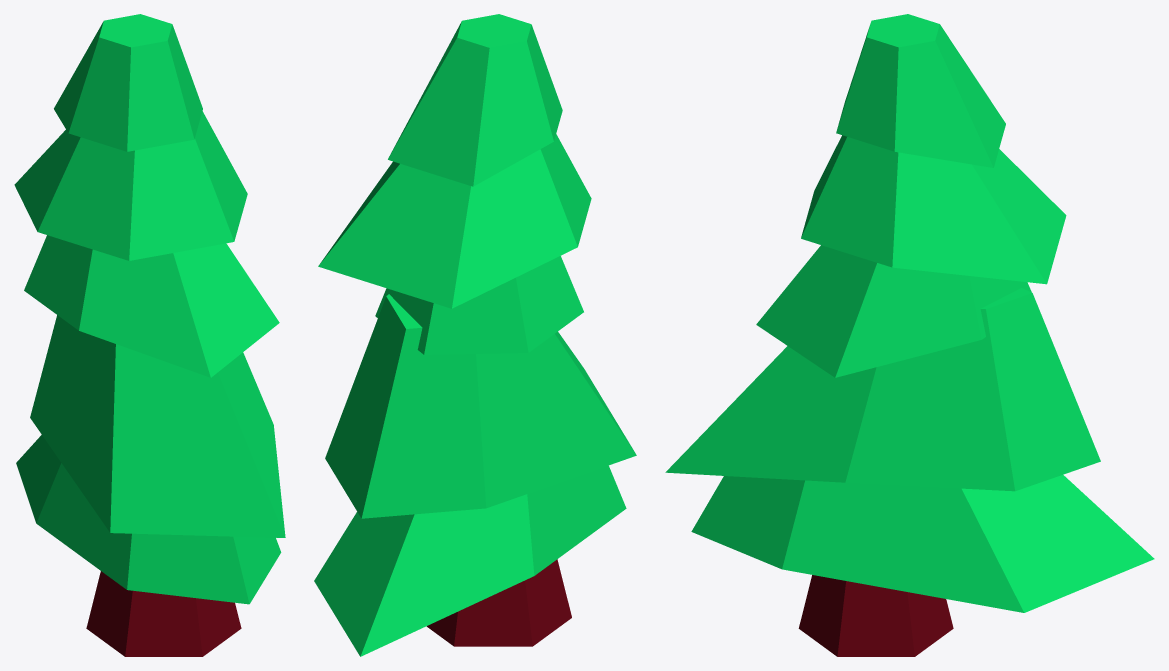
Rendered from newtree2.fbx.
The picture shows the model from 3 angles, left to right: view 1: azimuth 30°, elevation 25°; view 2: azimuth 150°, elevation 25°; view 3: azimuth 270°, elevation 25°; orthographic projection.
Parts seen in each view (by area): view 1: Cylinder.002, Cylinder.004, Cylinder.003, Cylinder.001, Cylinder.005, Cylinder; view 2: Cylinder.002, Cylinder.001, Cylinder.004, Cylinder.005, Cylinder.003, Cylinder; view 3: Cylinder.002, Cylinder.001, Cylinder.004, Cylinder.003, Cylinder.005, Cylinder.
Part boxes in pixels (left/top/right/bottom): Cylinder.002: left=30, top=315, right=285, bottom=537; Cylinder.004: left=14, top=111, right=247, bottom=260; Cylinder.003: left=24, top=235, right=279, bottom=377; Cylinder.001: left=16, top=435, right=281, bottom=604; Cylinder.005: left=54, top=14, right=202, bottom=151; Cylinder: left=86, top=571, right=241, bottom=656; Cylinder.002: left=325, top=294, right=636, bottom=518; Cylinder.001: left=314, top=465, right=626, bottom=656; Cylinder.004: left=318, top=134, right=591, bottom=308; Cylinder.005: left=388, top=14, right=562, bottom=186; Cylinder.003: left=375, top=256, right=583, bottom=354; Cylinder: left=426, top=559, right=571, bottom=646; Cylinder.002: left=665, top=288, right=1100, bottom=491; Cylinder.001: left=691, top=475, right=1154, bottom=612; Cylinder.004: left=801, top=135, right=1066, bottom=284; Cylinder.003: left=756, top=245, right=1031, bottom=377; Cylinder.005: left=836, top=14, right=1005, bottom=167; Cylinder: left=798, top=575, right=953, bottom=656.
Bounding box in the file's own units: 309 × 841 × 632.
